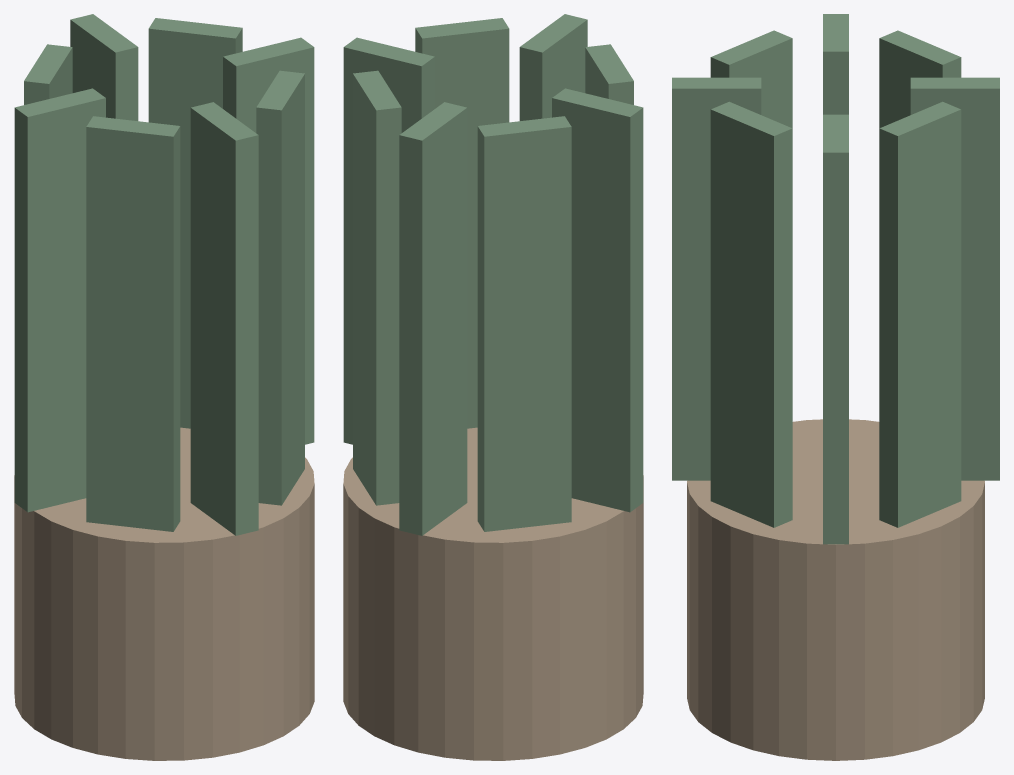
The model's file is plant-medium.glb.
3 renders of one model, left to right at view 1: azimuth 30°, elevation 25°; view 2: azimuth 150°, elevation 25°; view 3: azimuth 270°, elevation 25°, orthographic.
Visible parts, largest first — view 1: plant-medium_0, plant-medium_4, plant-medium_5, plant-medium_3, plant-medium_2, plant-medium_8, plant-medium_1, plant-medium_7, plant-medium_6; view 2: plant-medium_0, plant-medium_6, plant-medium_5, plant-medium_7, plant-medium_8, plant-medium_2, plant-medium_1, plant-medium_3, plant-medium_4; view 3: plant-medium_0, plant-medium_2, plant-medium_8, plant-medium_3, plant-medium_7, plant-medium_1, plant-medium_4, plant-medium_6, plant-medium_5.
Boxes of the visible parts, box(x1,y1,x2,y2) form: plant-medium_0: box(14, 427, 314, 760); plant-medium_4: box(86, 116, 180, 531); plant-medium_5: box(14, 88, 105, 512); plant-medium_3: box(190, 102, 258, 535); plant-medium_2: box(256, 70, 304, 505); plant-medium_8: box(148, 18, 242, 428); plant-medium_1: box(223, 37, 314, 444); plant-medium_7: box(70, 14, 138, 120); plant-medium_6: box(24, 44, 72, 104); plant-medium_0: box(343, 427, 643, 760); plant-medium_6: box(477, 116, 571, 531); plant-medium_5: box(552, 88, 643, 512); plant-medium_7: box(399, 102, 467, 535); plant-medium_8: box(353, 70, 401, 505); plant-medium_2: box(415, 18, 509, 428); plant-medium_1: box(343, 37, 434, 444); plant-medium_3: box(519, 14, 587, 120); plant-medium_4: box(585, 44, 633, 104); plant-medium_0: box(687, 419, 984, 760); plant-medium_2: box(710, 101, 792, 527); plant-medium_8: box(879, 101, 961, 527); plant-medium_3: box(672, 77, 761, 480); plant-medium_7: box(910, 77, 999, 480); plant-medium_1: box(823, 114, 848, 544); plant-medium_4: box(710, 30, 792, 128); plant-medium_6: box(879, 30, 961, 128); plant-medium_5: box(823, 14, 848, 114).
Size of the model in its own units: 0.44 by 0.91 by 0.44.
